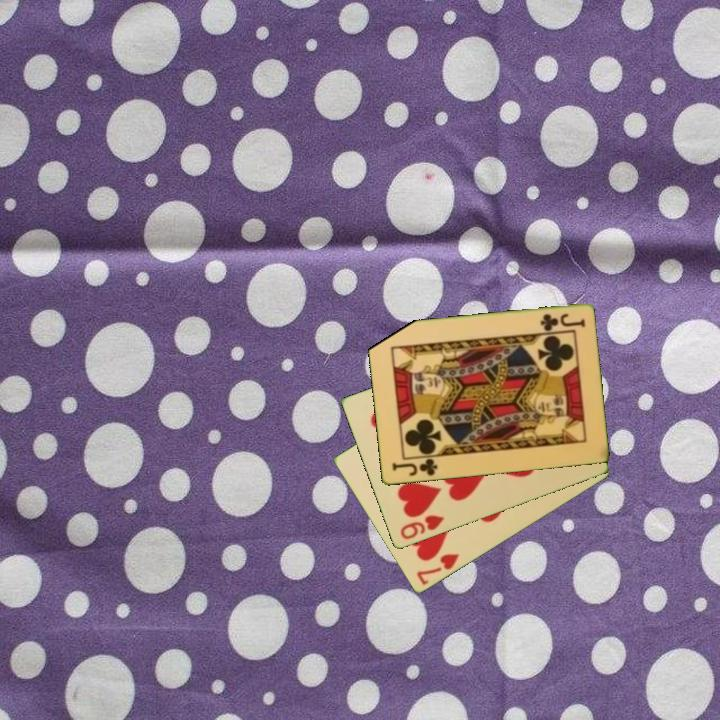7h: (413, 550, 462, 588)
9h: (397, 512, 447, 543)
Jc: (388, 455, 440, 479), (537, 310, 588, 333)
